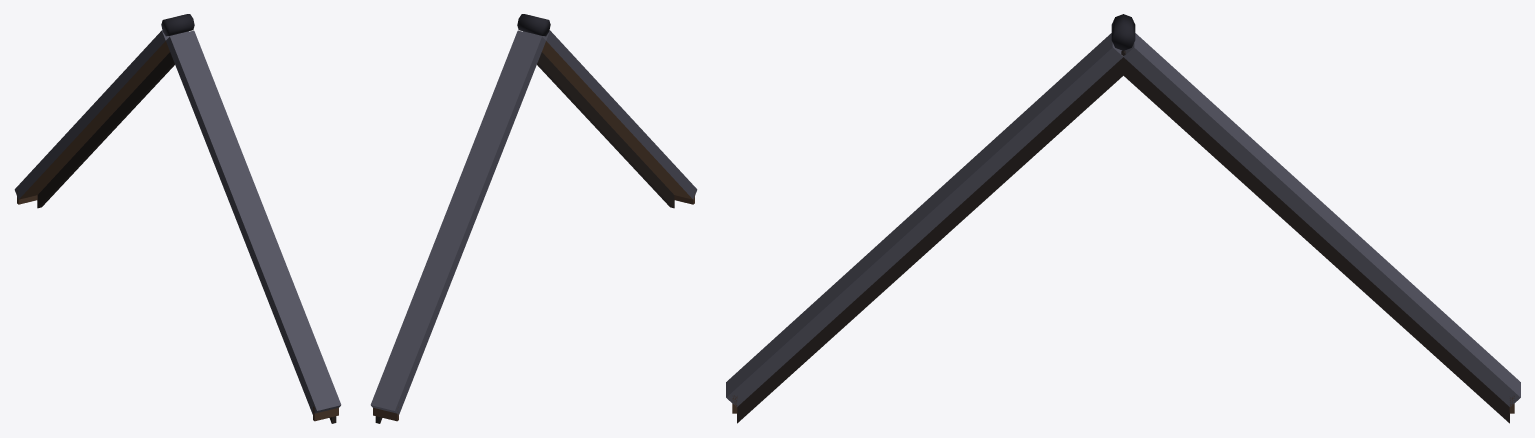
Rendered from kit_stone_slate_w4_end.glb.
3 views of the same model, side by side, from view 1: azimuth 30°, elevation 25°; view 2: azimuth 150°, elevation 25°; view 3: azimuth 270°, elevation 25° (orthographic). The views are drawn at different scales.
Visible parts, largest first — view 1: kit_stone_slate_w4_end; view 2: kit_stone_slate_w4_end; view 3: kit_stone_slate_w4_end.
Part boxes in pixels (x1,y1,x2,y2): kit_stone_slate_w4_end: (14,14,341,423); kit_stone_slate_w4_end: (370,14,697,423); kit_stone_slate_w4_end: (726,14,1520,423).
Size of the model in its own units: 0.22 by 2.59 by 4.73.
